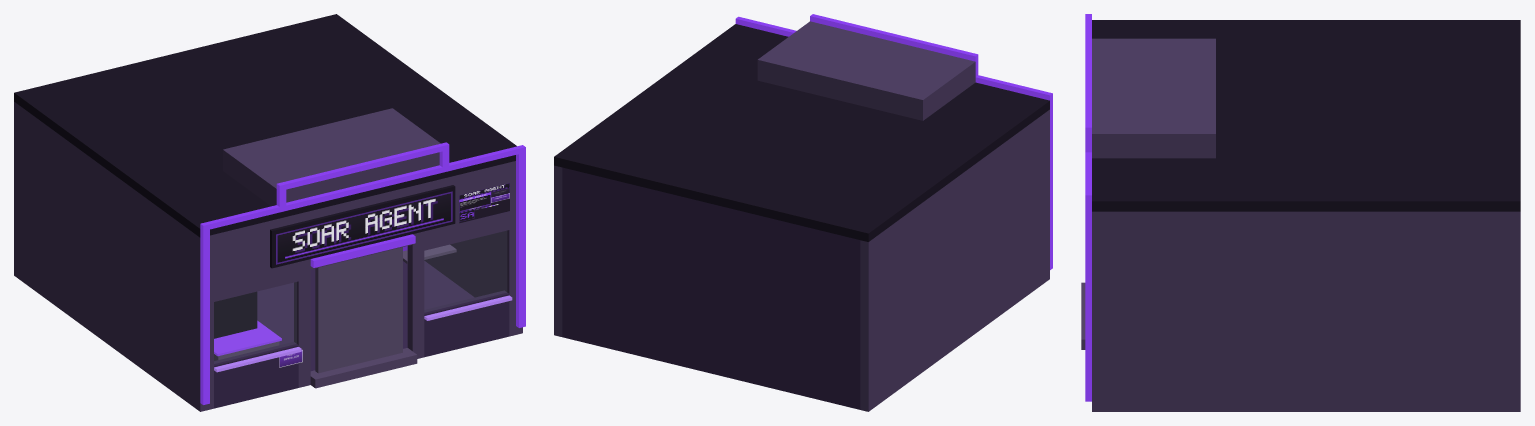
File: plot.glb
3 renders of one model, left to right at view 1: azimuth 30°, elevation 25°; view 2: azimuth 150°, elevation 25°; view 3: azimuth 270°, elevation 25°, orthographic. The views are drawn at different scales.
Parts seen in each view (by area): view 1: facade, neon, sign_1, door_panel_L, door_panel_R, pic_1, lintel; view 2: facade, neon; view 3: facade, neon.
Boxes of the visible parts, x1,y1,x2,y2 form: facade: [14, 14, 522, 411]; neon: [200, 142, 525, 404]; sign_1: [276, 191, 452, 264]; door_panel_L: [315, 257, 360, 373]; door_panel_R: [360, 247, 402, 362]; pic_1: [459, 183, 509, 223]; lintel: [310, 234, 415, 267]; facade: [554, 21, 1049, 411]; neon: [735, 14, 1052, 269]; facade: [1081, 20, 1520, 411]; neon: [1085, 14, 1091, 401].
Size of the model in its own units: 9.5 by 5.9 by 9.74.
4 materials, 3 textured.
